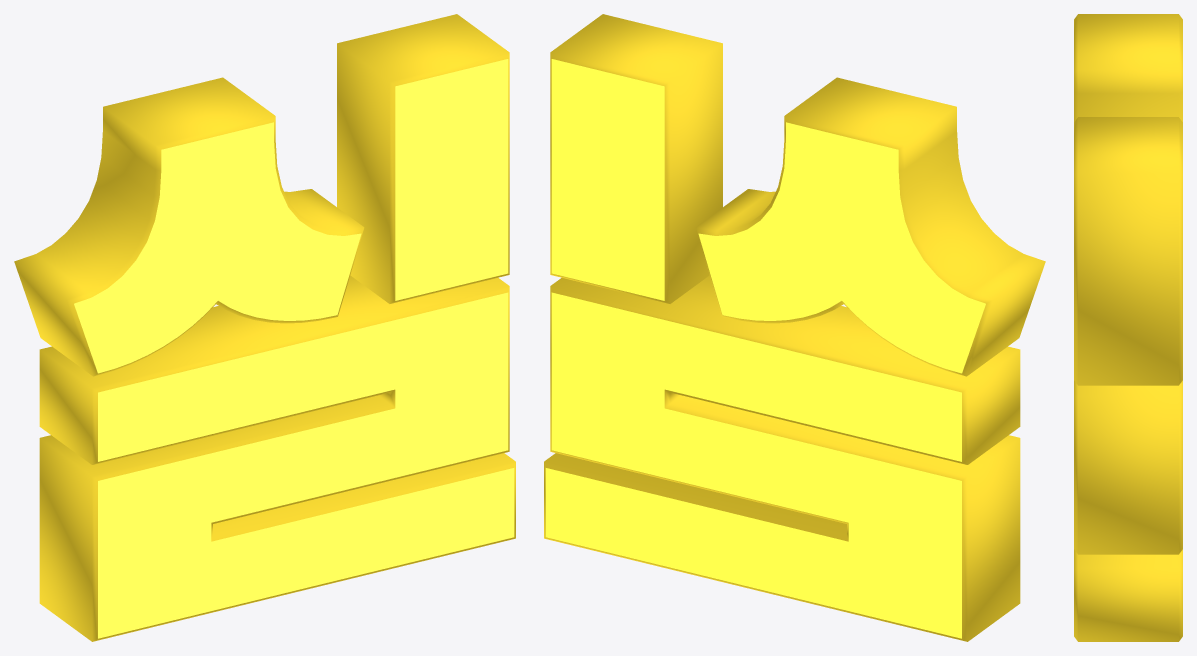
The picture shows the model from 3 angles, left to right: view 1: azimuth 30°, elevation 25°; view 2: azimuth 150°, elevation 25°; view 3: azimuth 270°, elevation 25°; orthographic projection. The views are drawn at different scales.
Visible parts, largest first — view 1: glyph; view 2: glyph; view 3: glyph.
Part boxes in pixels (x1,y1,x2,y2): glyph: [14, 14, 515, 641]; glyph: [544, 14, 1045, 641]; glyph: [1074, 14, 1182, 641].
Size of the model in its own units: 0.0738 by 0.0766 by 0.0162.
